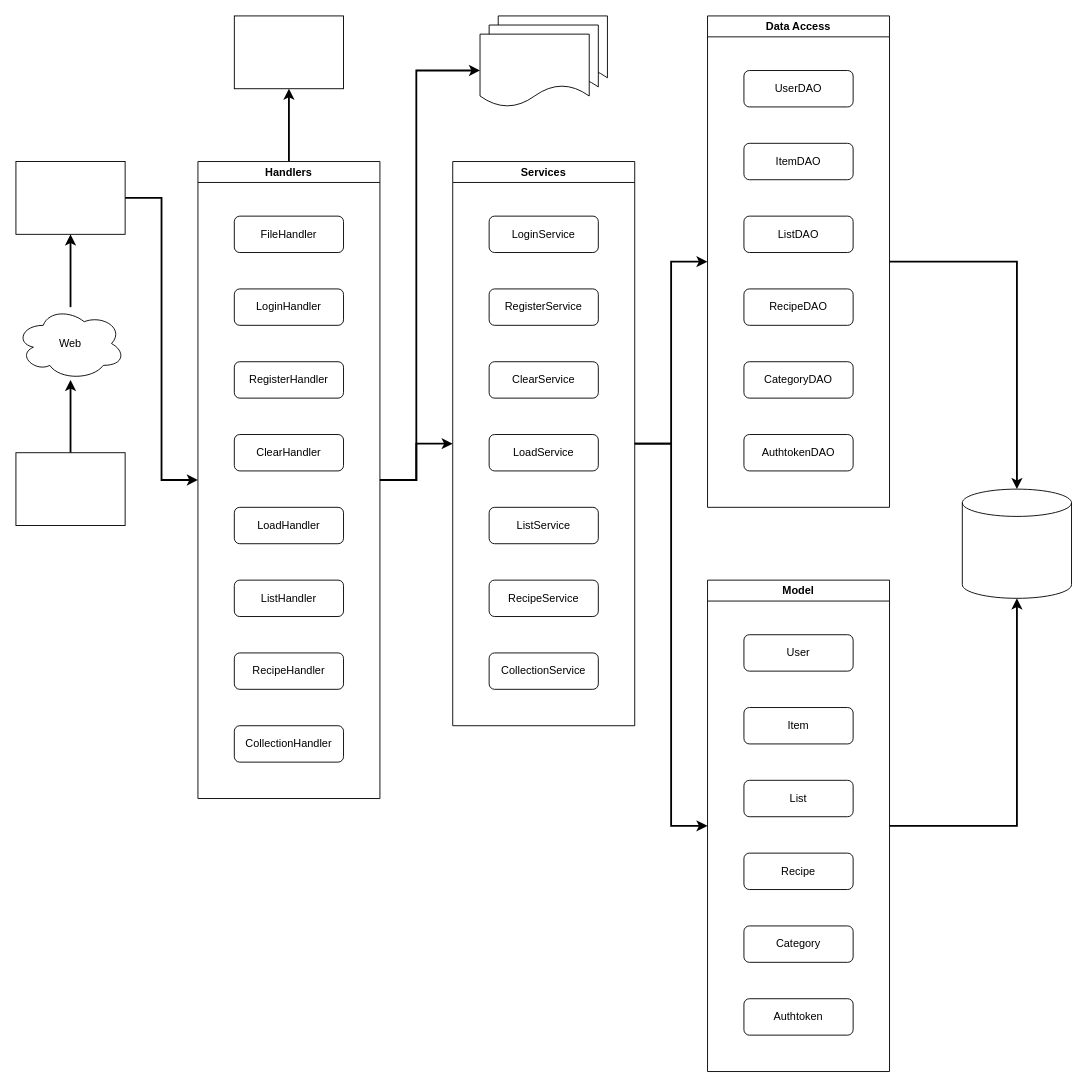
The diagram is 1087 pixels wide and 1087 high, and some of its shapes have lost their labels. The centre of each missing label's shape, as x and y in pixels:
Client App: (x=70, y=489)
Database: (x=1016, y=543)
Json Encoding/Decoding: (x=288, y=52)
Main Server: (x=70, y=197)
Web Site Files: (x=534, y=70)
